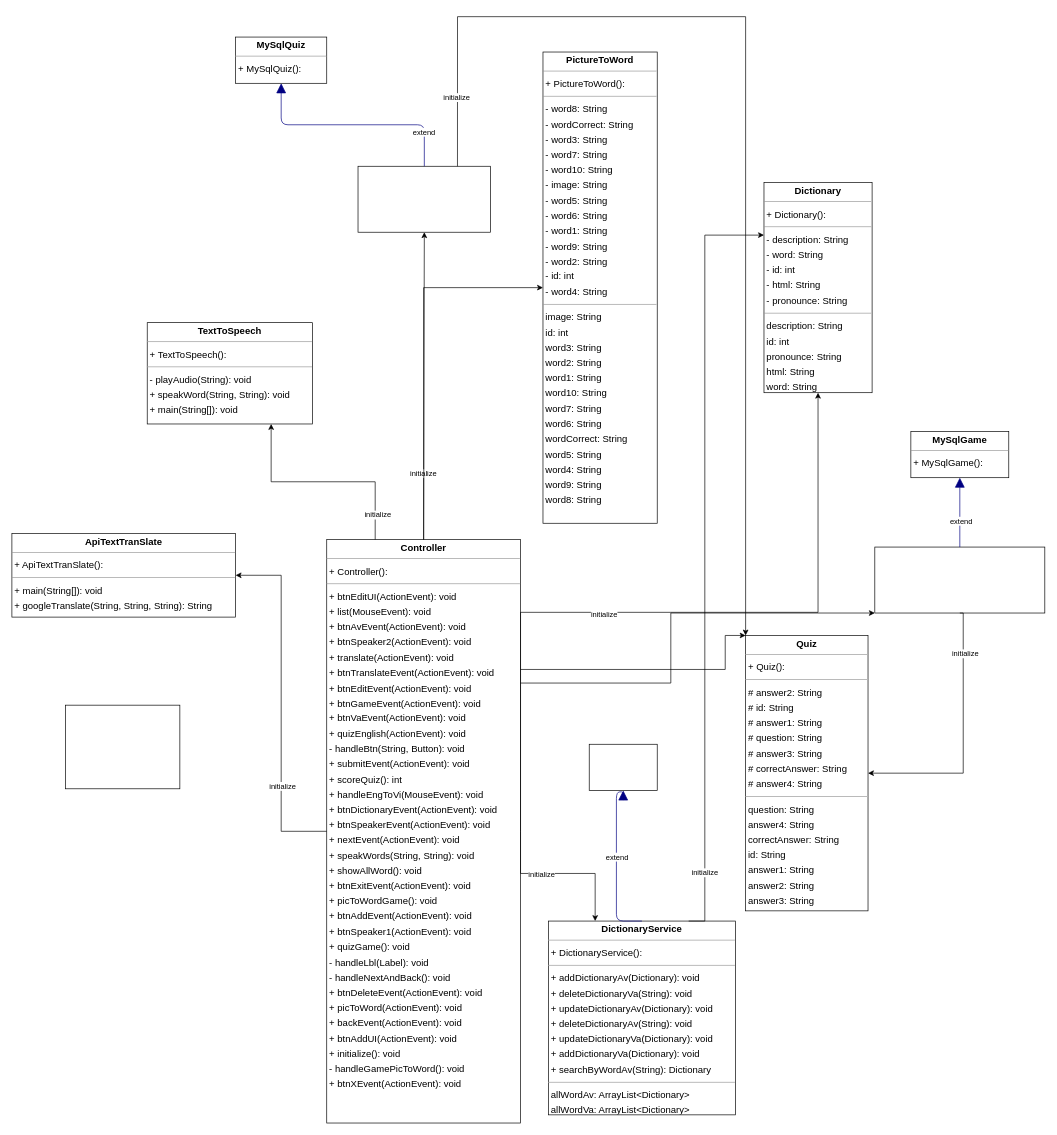
Some shapes in this 1057 by 1135 pixel diagram are drawn without their labels. Here are the shapes that lost their labels. From the top down, the centre of each, then its label:
At point (424, 199): "QuizService + QuizService(): allQuiz: ArrayList<Quiz>".
At point (959, 579): "PicToWordService + PicToWordService(): allPic: ArrayList<PictureToWord>".
At point (122, 746): "AppEnglishUI + AppEnglishUI(): + main(String[]): void + start(Stage): void".
At point (623, 767): "Mysql + Mysql():".
